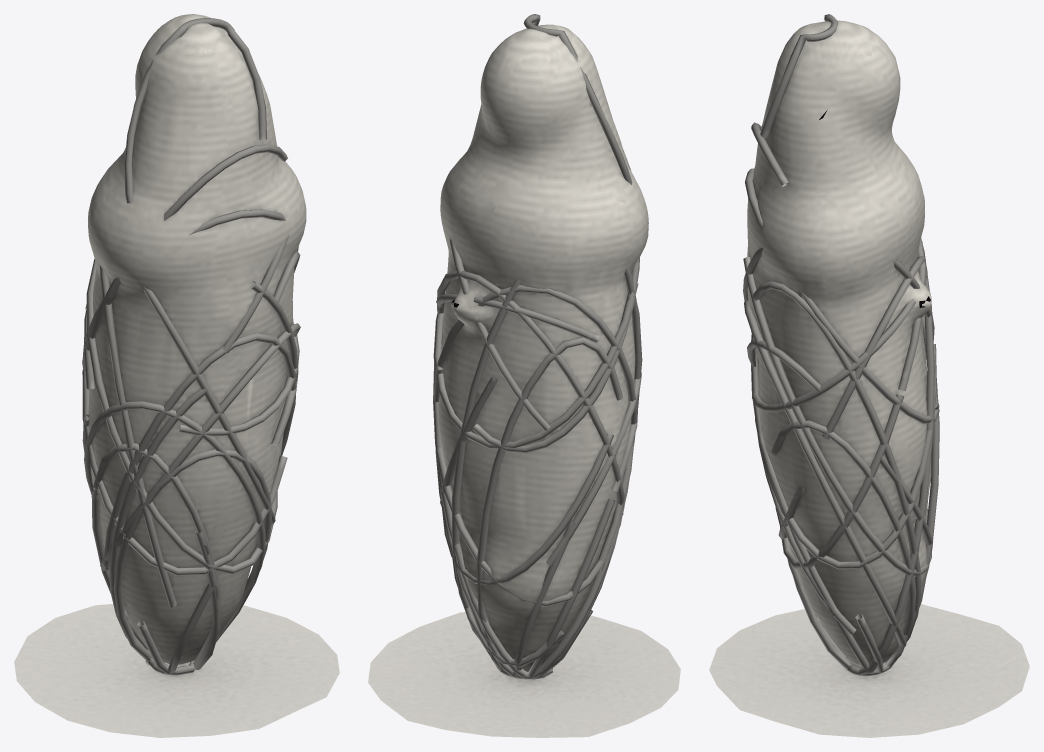
Rendered from silk_cocoon_stand.obj.
3 renders of one model, left to right at view 1: azimuth 30°, elevation 25°; view 2: azimuth 150°, elevation 25°; view 3: azimuth 270°, elevation 25°, orthographic. The views are drawn at different scales.
Parts seen in each view (by area): view 1: part0, part1; view 2: part0, part1; view 3: part0, part1.
Boxes of the visible parts, x1,y1,x2,y2 form: part0: (88, 14, 306, 664); part1: (14, 18, 339, 737); part0: (438, 24, 648, 671); part1: (368, 14, 680, 737); part0: (747, 20, 931, 664); part1: (709, 14, 1029, 737).
Bounding box in the file's own units: 0.84 × 1.87 × 0.84.
